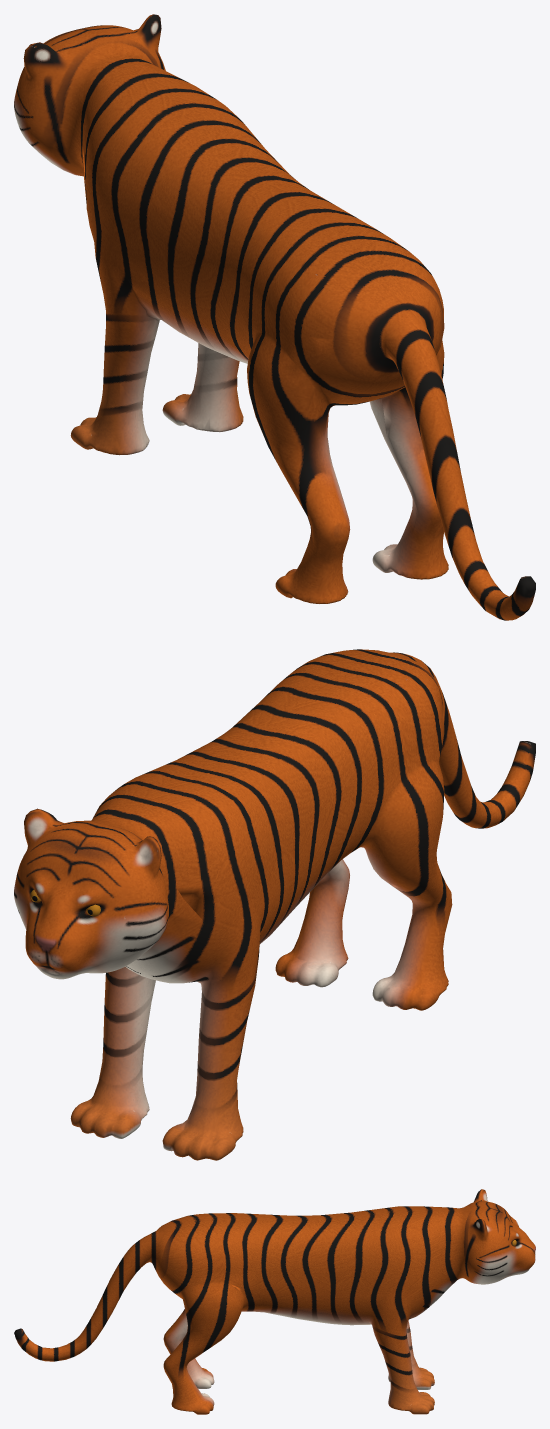
File: harimau.glb
The picture shows the model from 3 angles, top to bottom: view 1: azimuth 30°, elevation 25°; view 2: azimuth 150°, elevation 25°; view 3: azimuth 270°, elevation 25°; orthographic projection. The views are drawn at different scales.
Parts seen in each view (by area): view 1: Harimau_Sumatra; view 2: Harimau_Sumatra; view 3: Harimau_Sumatra.
Boxes of the visible parts, bbox=[...] form: Harimau_Sumatra: bbox=[14, 14, 535, 620]; Harimau_Sumatra: bbox=[14, 649, 535, 1160]; Harimau_Sumatra: bbox=[14, 1189, 535, 1414].
Size of the model in its own units: 0.4555 by 0.8855 by 2.18.
3 materials, 1 textured.
